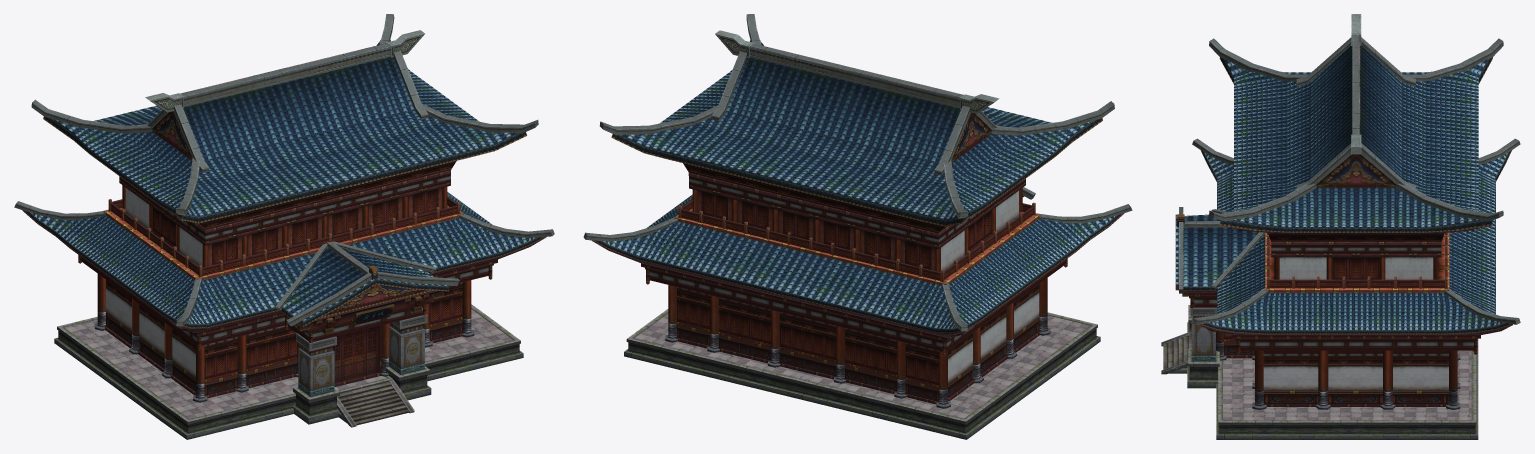
The model's file is Maincity06_Building_czf03_LOD0.FBX.
3 renders of one model, left to right at view 1: azimuth 30°, elevation 25°; view 2: azimuth 150°, elevation 25°; view 3: azimuth 270°, elevation 25°, orthographic. The views are drawn at different scales.
Visible parts, largest first — view 1: Maincity06_Building_czf03_1_LOD0, Maincity06_Building_czf03_2_LOD0; view 2: Maincity06_Building_czf03_1_LOD0, Maincity06_Building_czf03_2_LOD0; view 3: Maincity06_Building_czf03_1_LOD0, Maincity06_Building_czf03_2_LOD0.
Part boxes in pixels (x1=…): Maincity06_Building_czf03_1_LOD0: x1=14, y1=14, x2=554, y2=439; Maincity06_Building_czf03_2_LOD0: x1=78, y1=173, x2=497, y2=425; Maincity06_Building_czf03_1_LOD0: x1=583, y1=14, x2=1132, y2=439; Maincity06_Building_czf03_2_LOD0: x1=641, y1=176, x2=1067, y2=404; Maincity06_Building_czf03_1_LOD0: x1=1161, y1=14, x2=1520, y2=439; Maincity06_Building_czf03_2_LOD0: x1=1163, y1=214, x2=1480, y2=406.
Size of the model in its own units: 2692 by 1918 by 2239.
